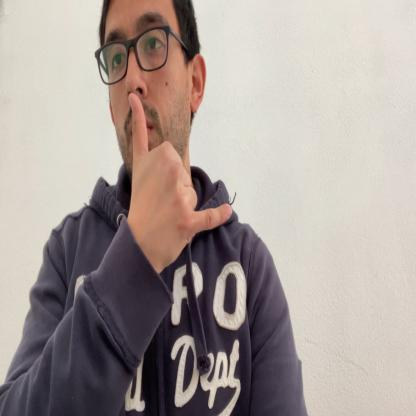Y: (129, 94, 233, 264)
